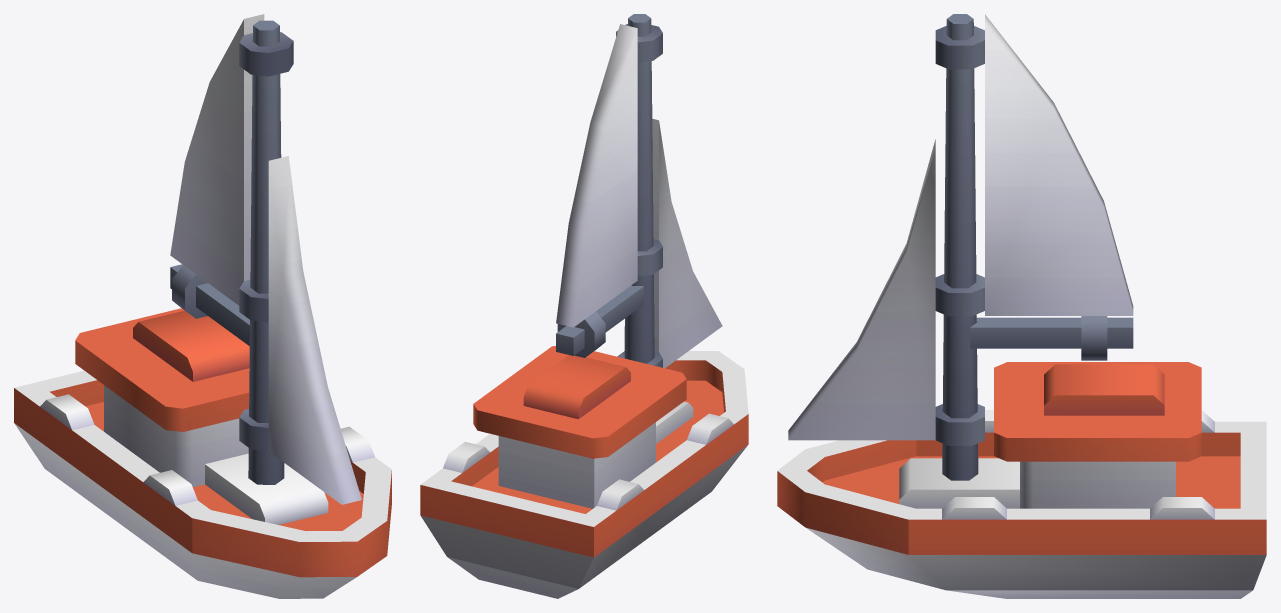
Rendered from k.boat_sail_a.glb.
3 views of the same model, side by side, from view 1: azimuth 30°, elevation 25°; view 2: azimuth 150°, elevation 25°; view 3: azimuth 270°, elevation 25° (orthographic). The views are drawn at different scales.
Visible parts, largest first — view 1: boat-sail-a, sail; view 2: boat-sail-a, sail; view 3: boat-sail-a, sail.
Boxes of the visible parts, bbox=[...] form: boat-sail-a: bbox=[14, 308, 391, 598]; sail: bbox=[170, 14, 361, 504]; boat-sail-a: bbox=[420, 346, 748, 598]; sail: bbox=[556, 14, 722, 368]; boat-sail-a: bbox=[777, 362, 1266, 598]; sail: bbox=[788, 14, 1133, 480].
Bounding box in the file's own units: 2.27 × 6.03 × 4.8.
Materials: 1 (1 with a texture image).
